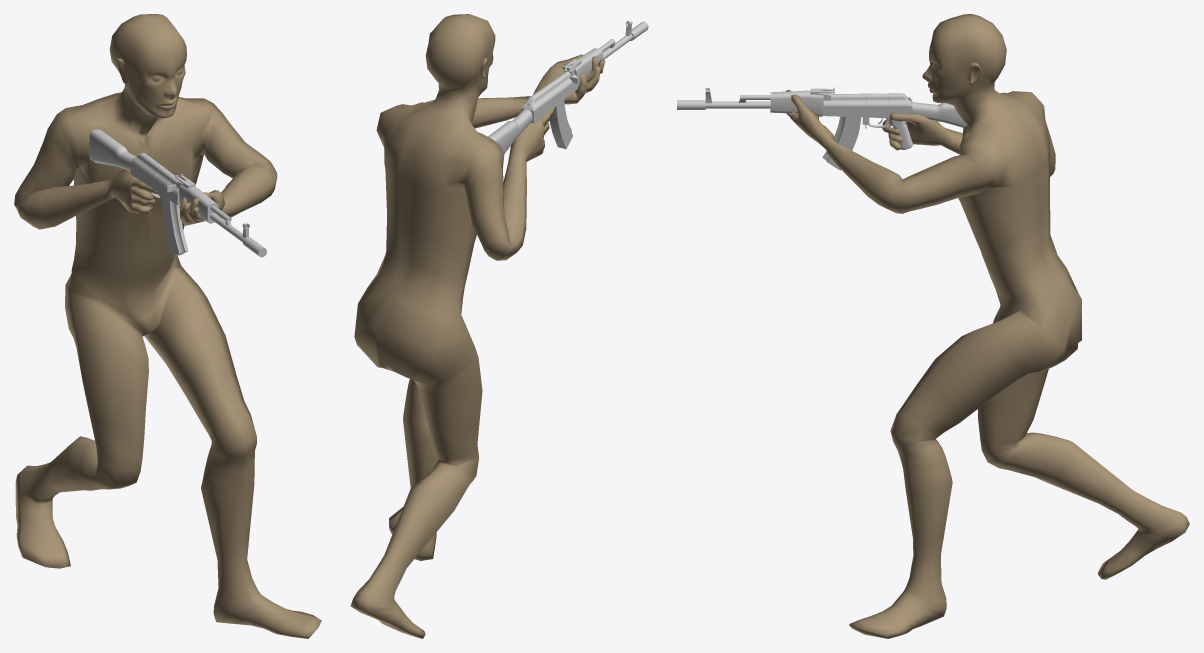
File: CharacterGizmos.obj
3 views of the same model, side by side, from view 1: azimuth 30°, elevation 25°; view 2: azimuth 150°, elevation 25°; view 3: azimuth 270°, elevation 25° (orthographic). The views are drawn at different scales.
Visible parts, largest first — view 1: Human_Cylinder, Weapon_Cylinder.001; view 2: Human_Cylinder, Weapon_Cylinder.001; view 3: Human_Cylinder, Weapon_Cylinder.001.
Part boxes in pixels (bbox=[...]): Human_Cylinder: bbox=[14, 14, 321, 638]; Weapon_Cylinder.001: bbox=[89, 129, 266, 257]; Human_Cylinder: bbox=[350, 14, 605, 638]; Weapon_Cylinder.001: bbox=[488, 20, 648, 153]; Human_Cylinder: bbox=[785, 14, 1189, 638]; Weapon_Cylinder.001: bbox=[677, 87, 966, 170].
Size of the model in its own units: 0.6758 by 1.8 by 1.47.
